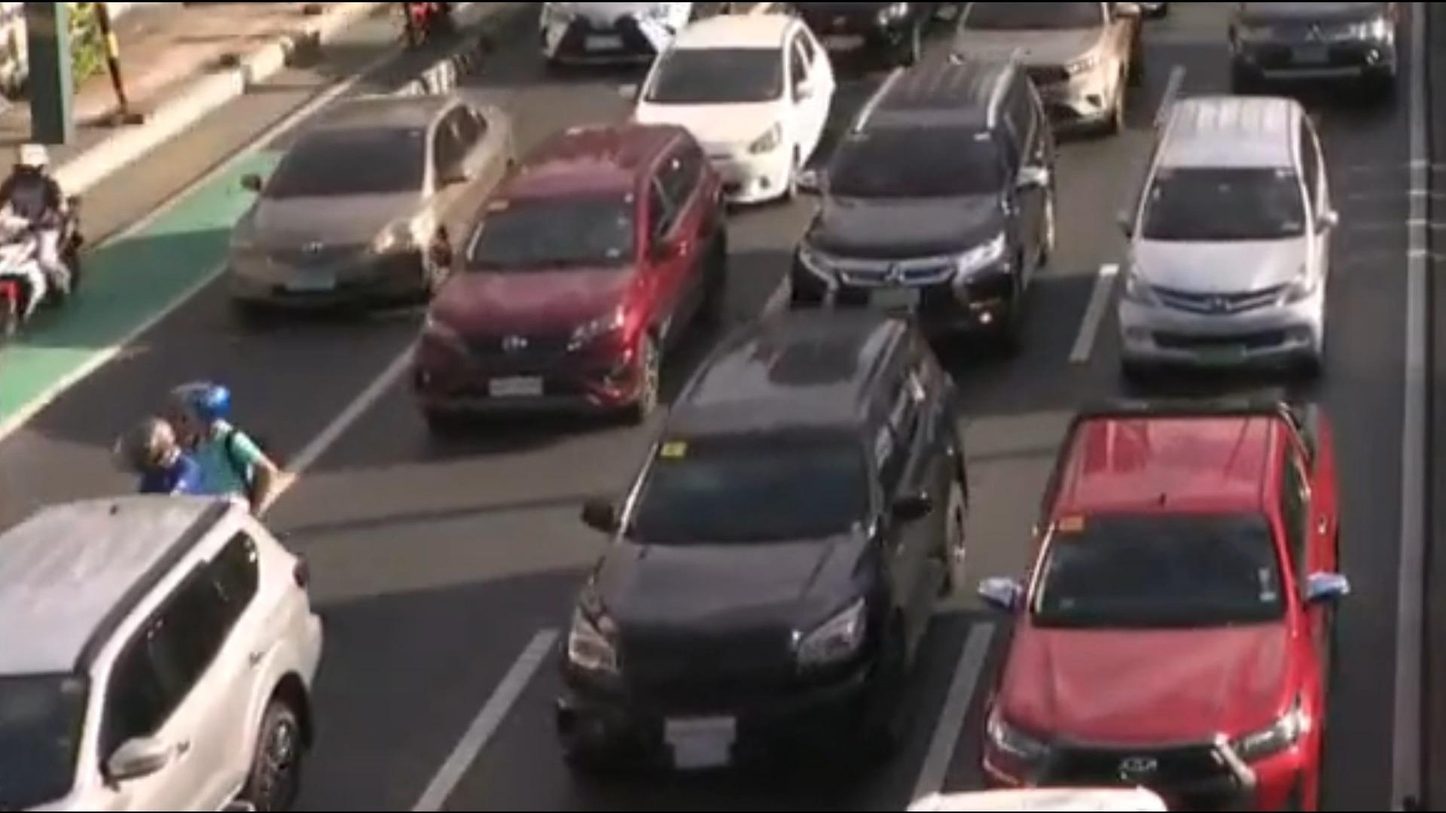Motorcycle: (0, 138, 102, 368), (135, 379, 279, 532), (356, 0, 463, 59)
Pickup: (933, 365, 1390, 806)
SUV: (536, 301, 991, 801), (388, 93, 729, 464), (0, 490, 362, 813), (781, 38, 1092, 366), (1070, 74, 1382, 393), (933, 0, 1164, 134)
Sedan: (210, 81, 526, 321), (575, 14, 846, 218)
